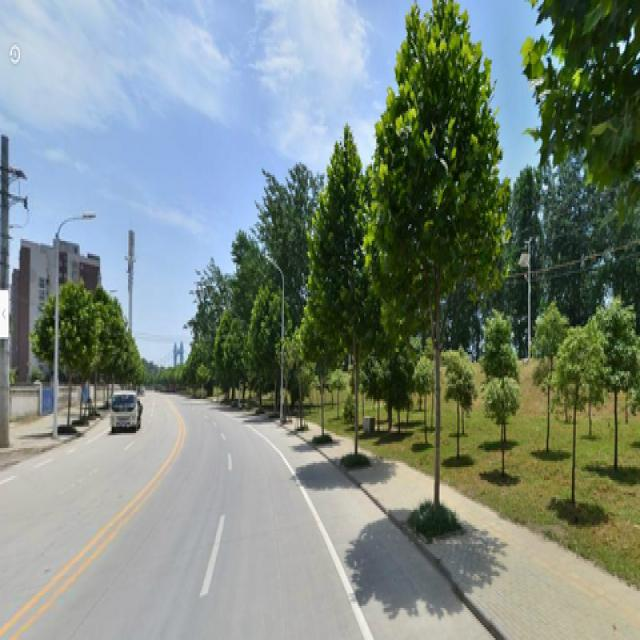meta: (374, 13, 510, 514)
